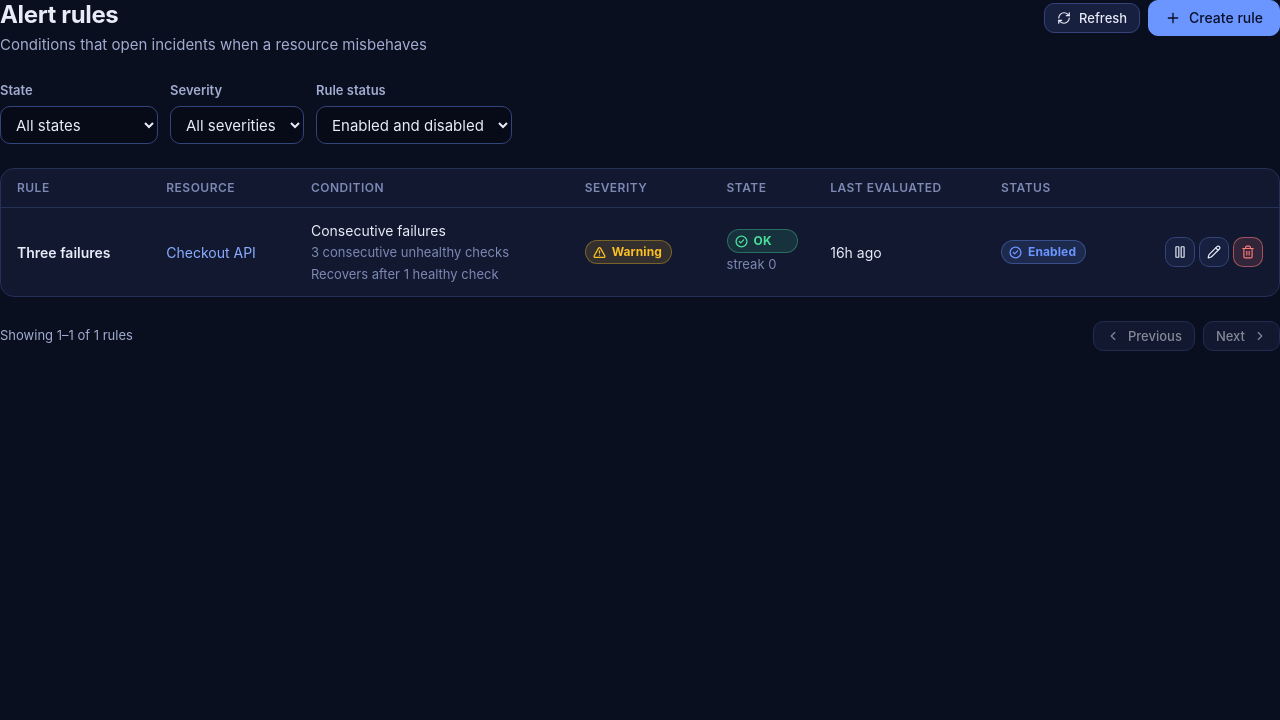
Test: AlertsPage create › shows how many rules a resource has against the limit
Expected: the text "Three failures" is shown, left=17, top=244, right=110, bottom=260
Click the button "Create rule" at (1214, 18), box left=1148, top=0, right=1279, bottom=36
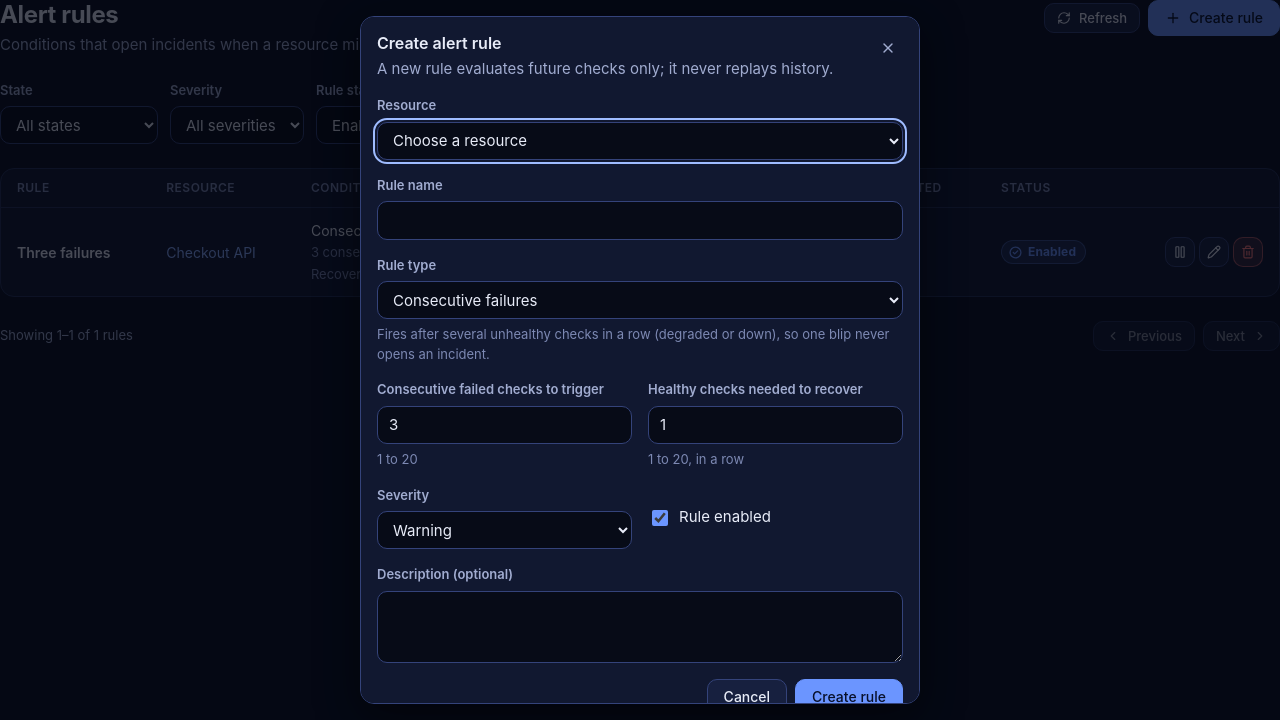
Select "Checkout API" in the dropdown labelled "Resource" at (640, 141), box left=377, top=122, right=903, bottom=160
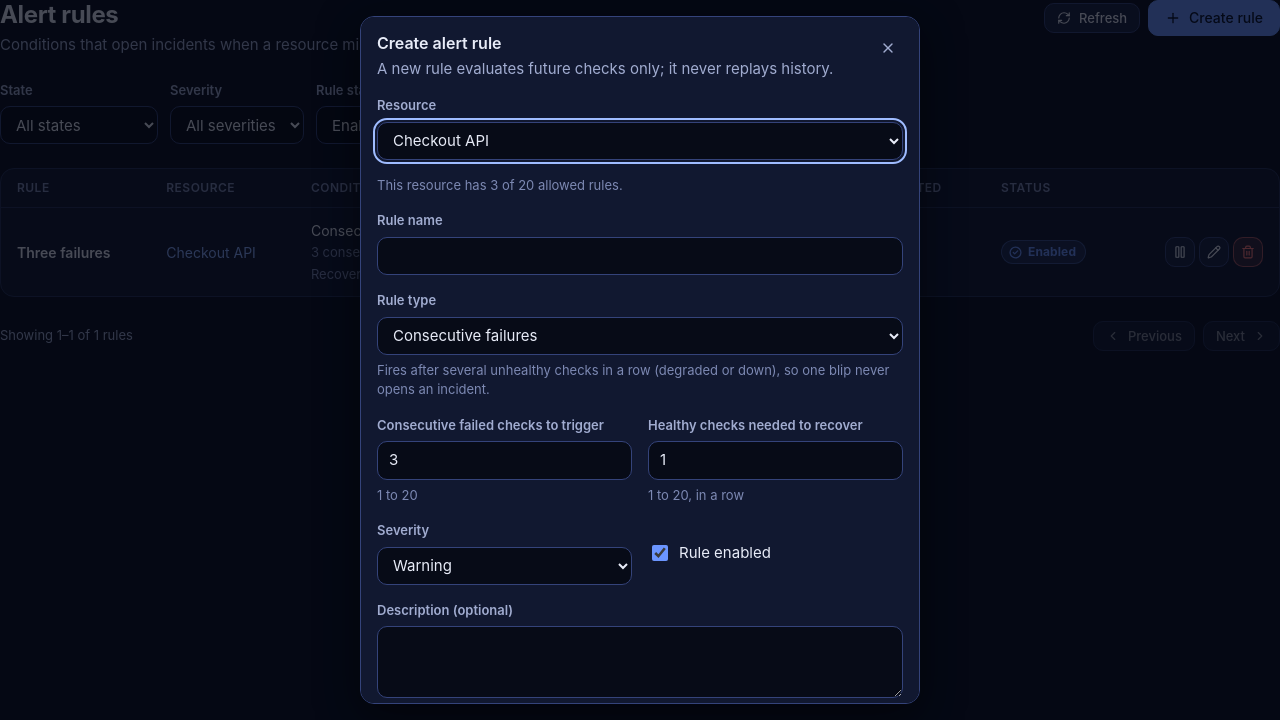
Now the text "This resource has 3 of 20 allowed rules." is shown, box left=377, top=177, right=623, bottom=193
